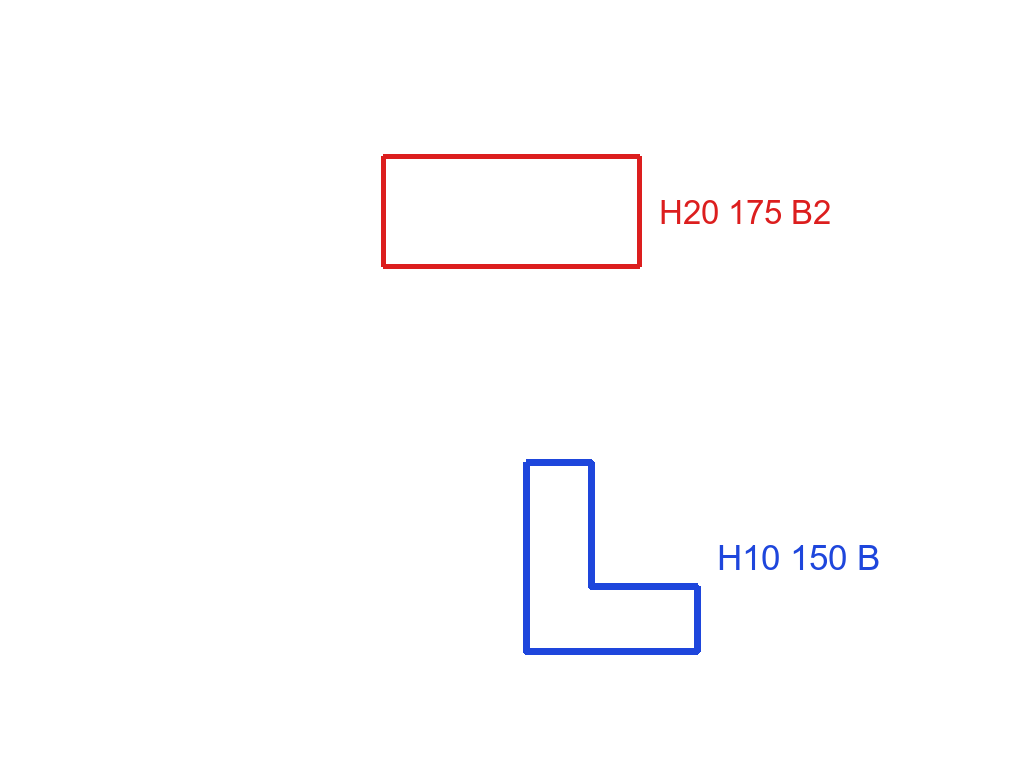shape: (521, 457, 703, 657), (379, 152, 644, 271)
text: (657, 198, 833, 226), (715, 543, 882, 572)
